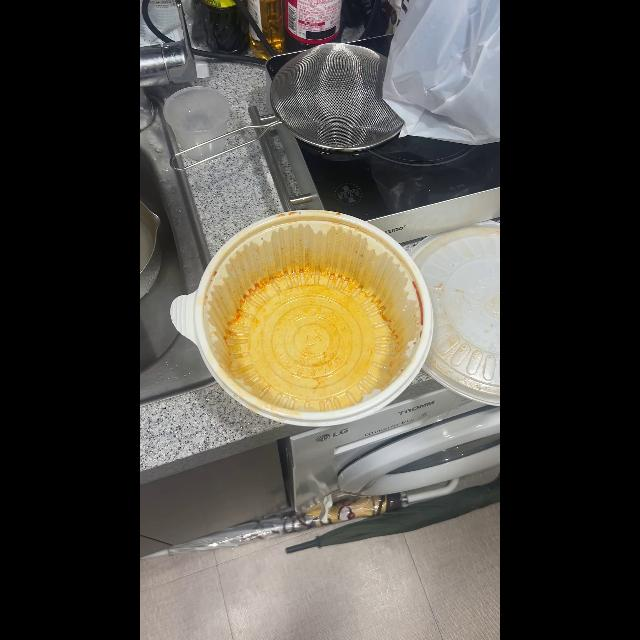dirty: (200, 211, 428, 417)
